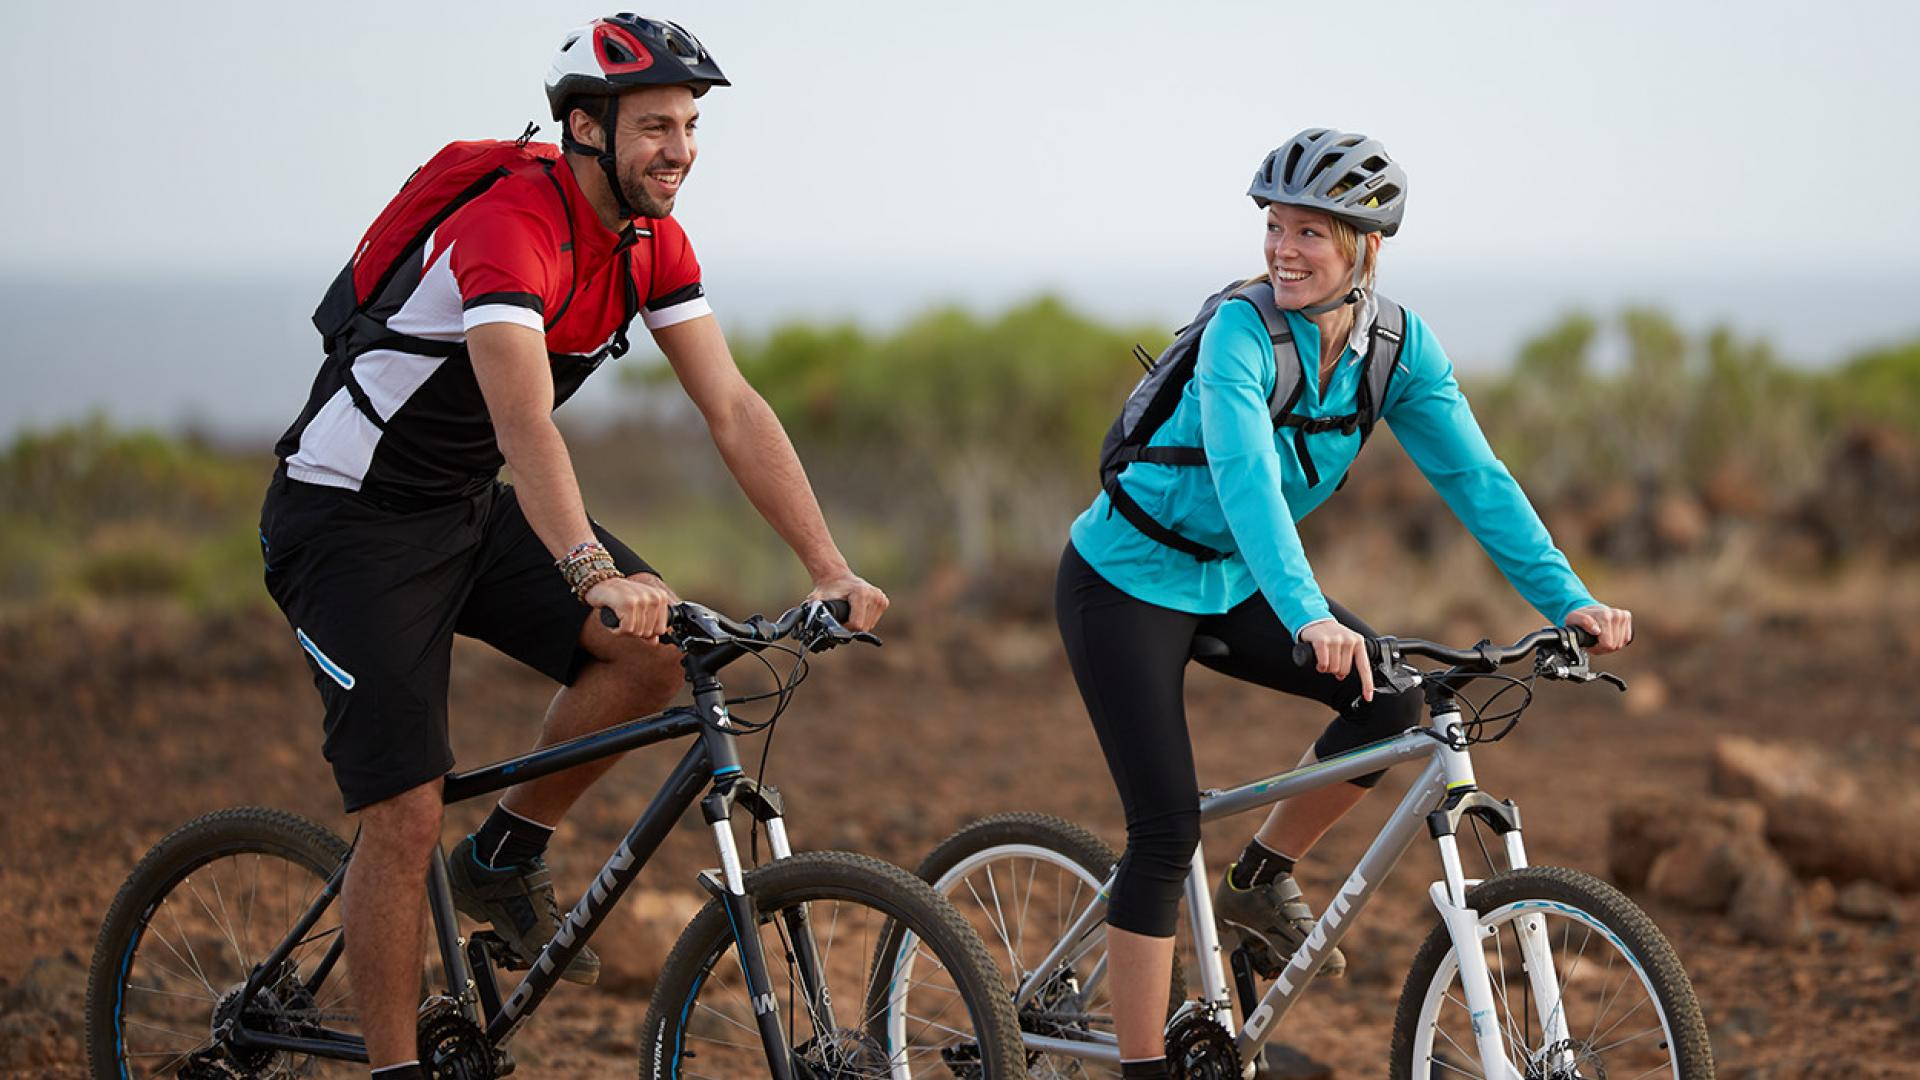with_helmet: (547, 1, 729, 140), (1249, 123, 1412, 251)
